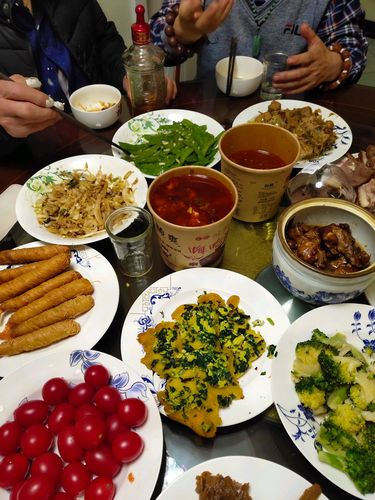food: (123, 270, 273, 412), (13, 146, 153, 241), (261, 187, 374, 300), (8, 242, 117, 341), (106, 104, 226, 175), (290, 308, 374, 406), (234, 96, 344, 170), (11, 353, 129, 411)
